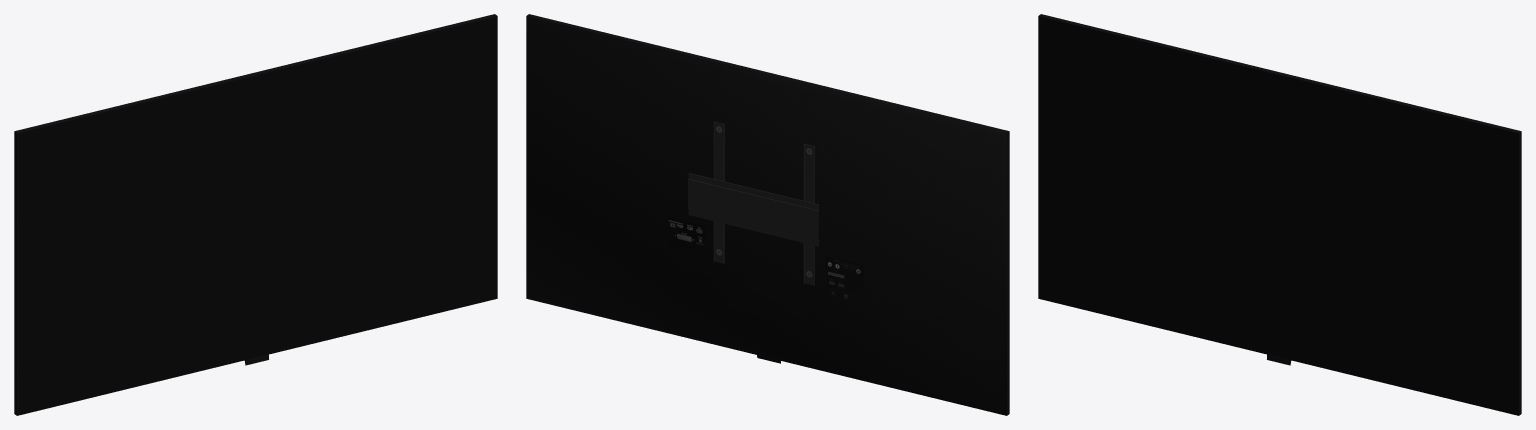
Rendered from TV_for_wall.fbx.
3 renders of one model, left to right at view 1: azimuth 30°, elevation 25°; view 2: azimuth 150°, elevation 25°; view 3: azimuth 330°, elevation 25°, orthographic.
Visible parts, largest first — view 1: TV_for_wall; view 2: TV_for_wall; view 3: TV_for_wall.
Part boxes in pixels (left/top/right/bottom): TV_for_wall: left=14, top=14, right=497, bottom=415; TV_for_wall: left=526, top=14, right=1009, bottom=415; TV_for_wall: left=1038, top=14, right=1521, bottom=415.
Size of the model in its own units: 144 by 82.66 by 7.86.
